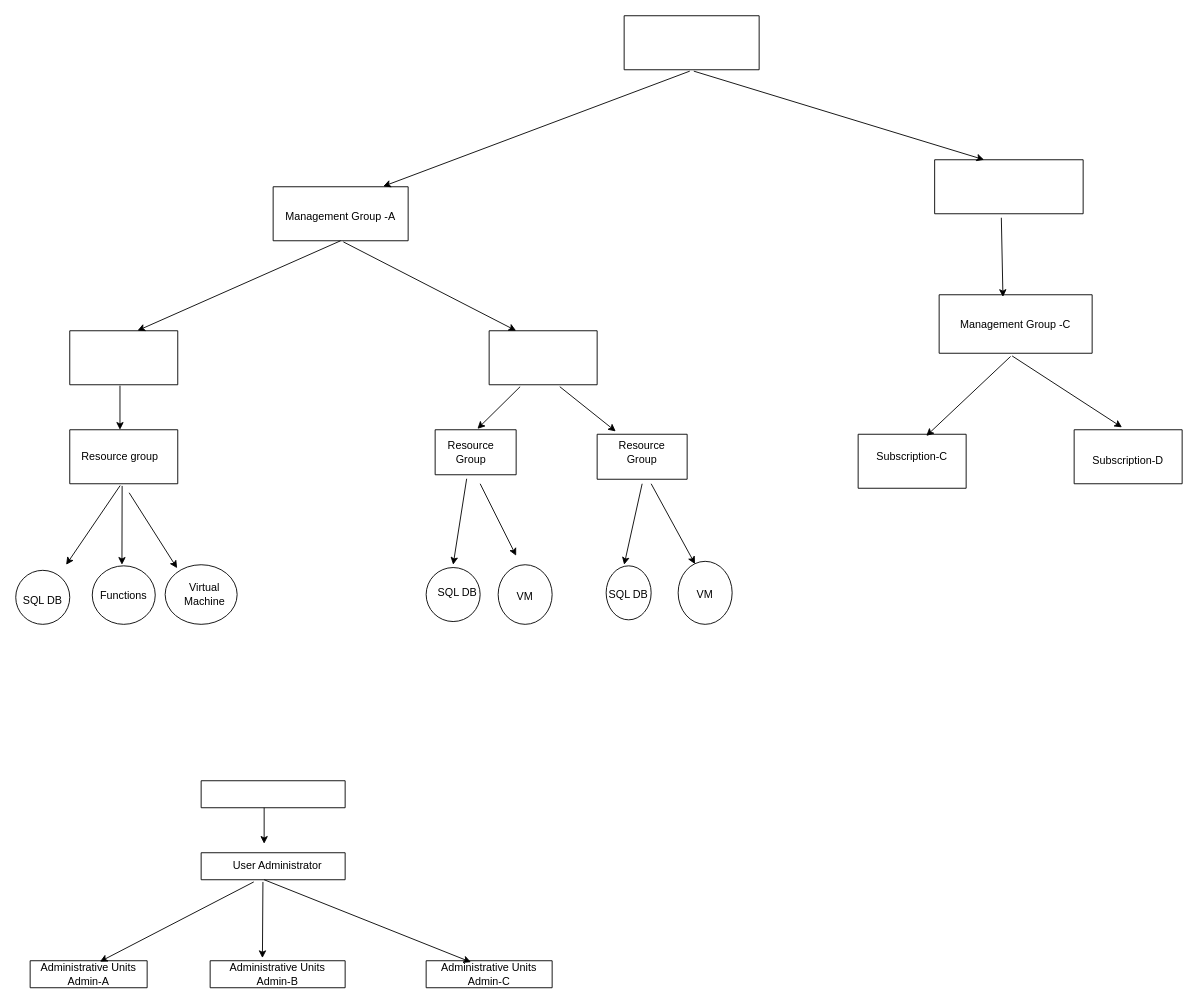
Some shapes in this 1198 by 1004 pixel diagram are drawn without their labels. Here are the shapes that lost their labels. From the top down, the centre of each, then its label:
(691,42): Root Management Group
(1008,186): Management Group -B
(123,357): Subscription-A
(542,357): Subscription-B
(272,794): Azure Active Directory
